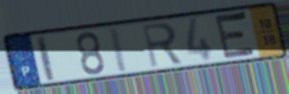4: (185, 16, 218, 64)
8: (75, 30, 106, 76)
E: (213, 9, 259, 61)
I: (35, 34, 58, 83), (107, 25, 130, 74)
R: (140, 21, 186, 70)
